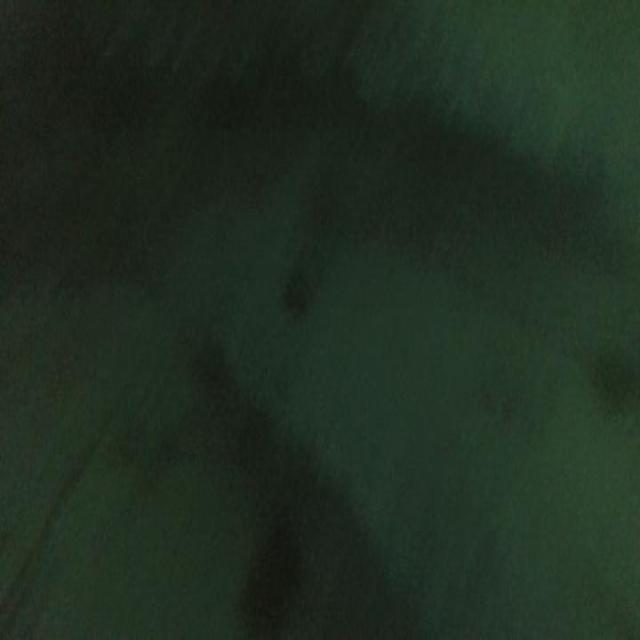echinus: (237, 531, 311, 640)
